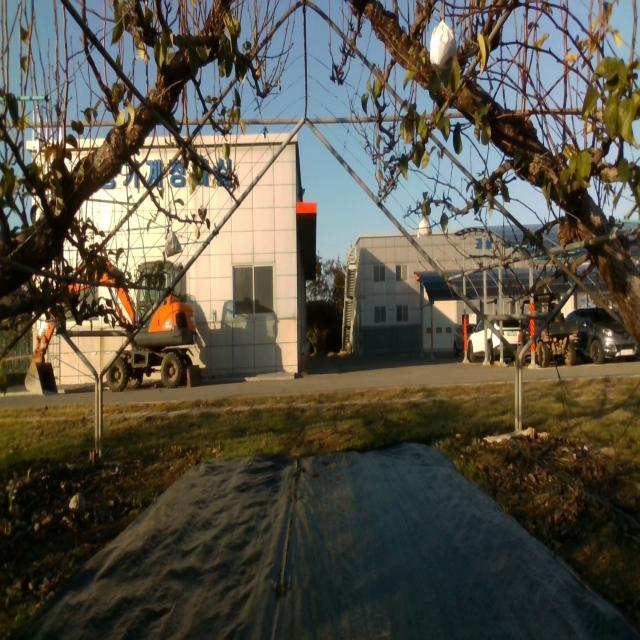pearbags: (429, 16, 457, 84), (165, 230, 184, 258), (418, 215, 432, 240)
